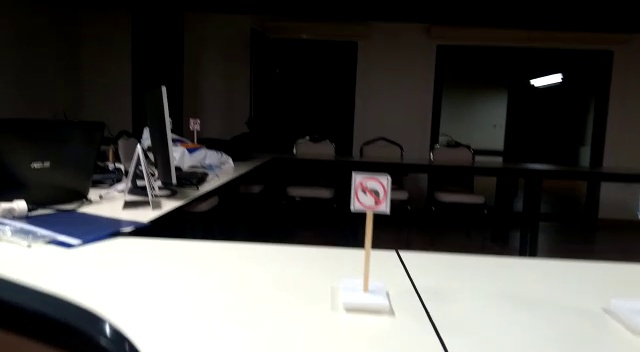sola_donulmez: (353, 171, 390, 213)
